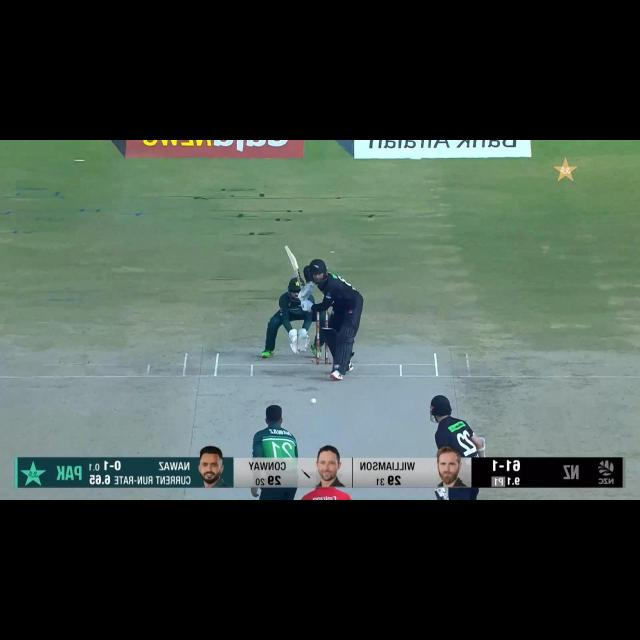bat: (279, 244, 311, 288)
toe: (279, 240, 298, 263)
